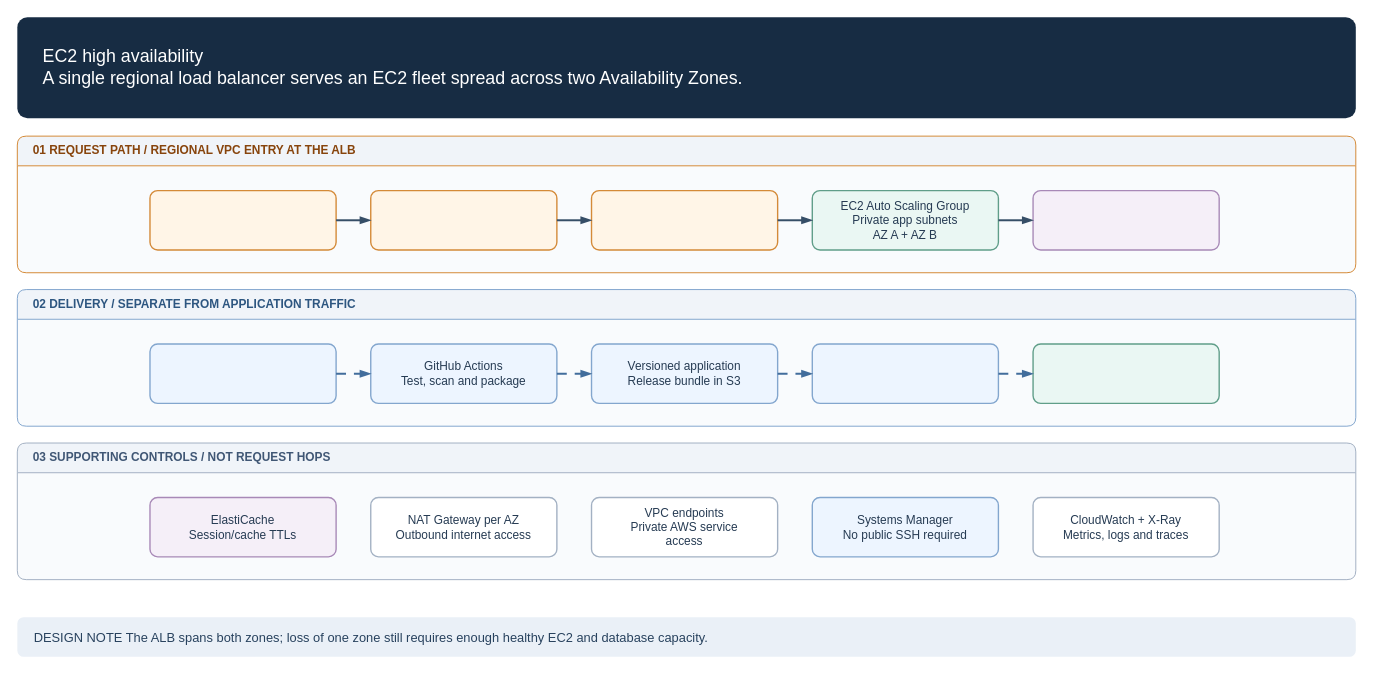
Image size: 1373x673. Some labels were removed from this diagram. Here are the shapes that lost their labels. From the top down, the centre of each, then its label:
the point at 242,219: End users Route 53 resolves edge DNS
the point at 463,219: CloudFront WAF + Shield
the point at 684,219: Application Load Balancer Public subnets across AZs
the point at 1125,219: Aurora / RDS Multi-AZ private data tier
the point at 242,373: GitHub repository Frontend + backend
the point at 905,373: CodeDeploy Blue-green EC2 rollout
the point at 1125,373: EC2 fleet Health checks before switch
